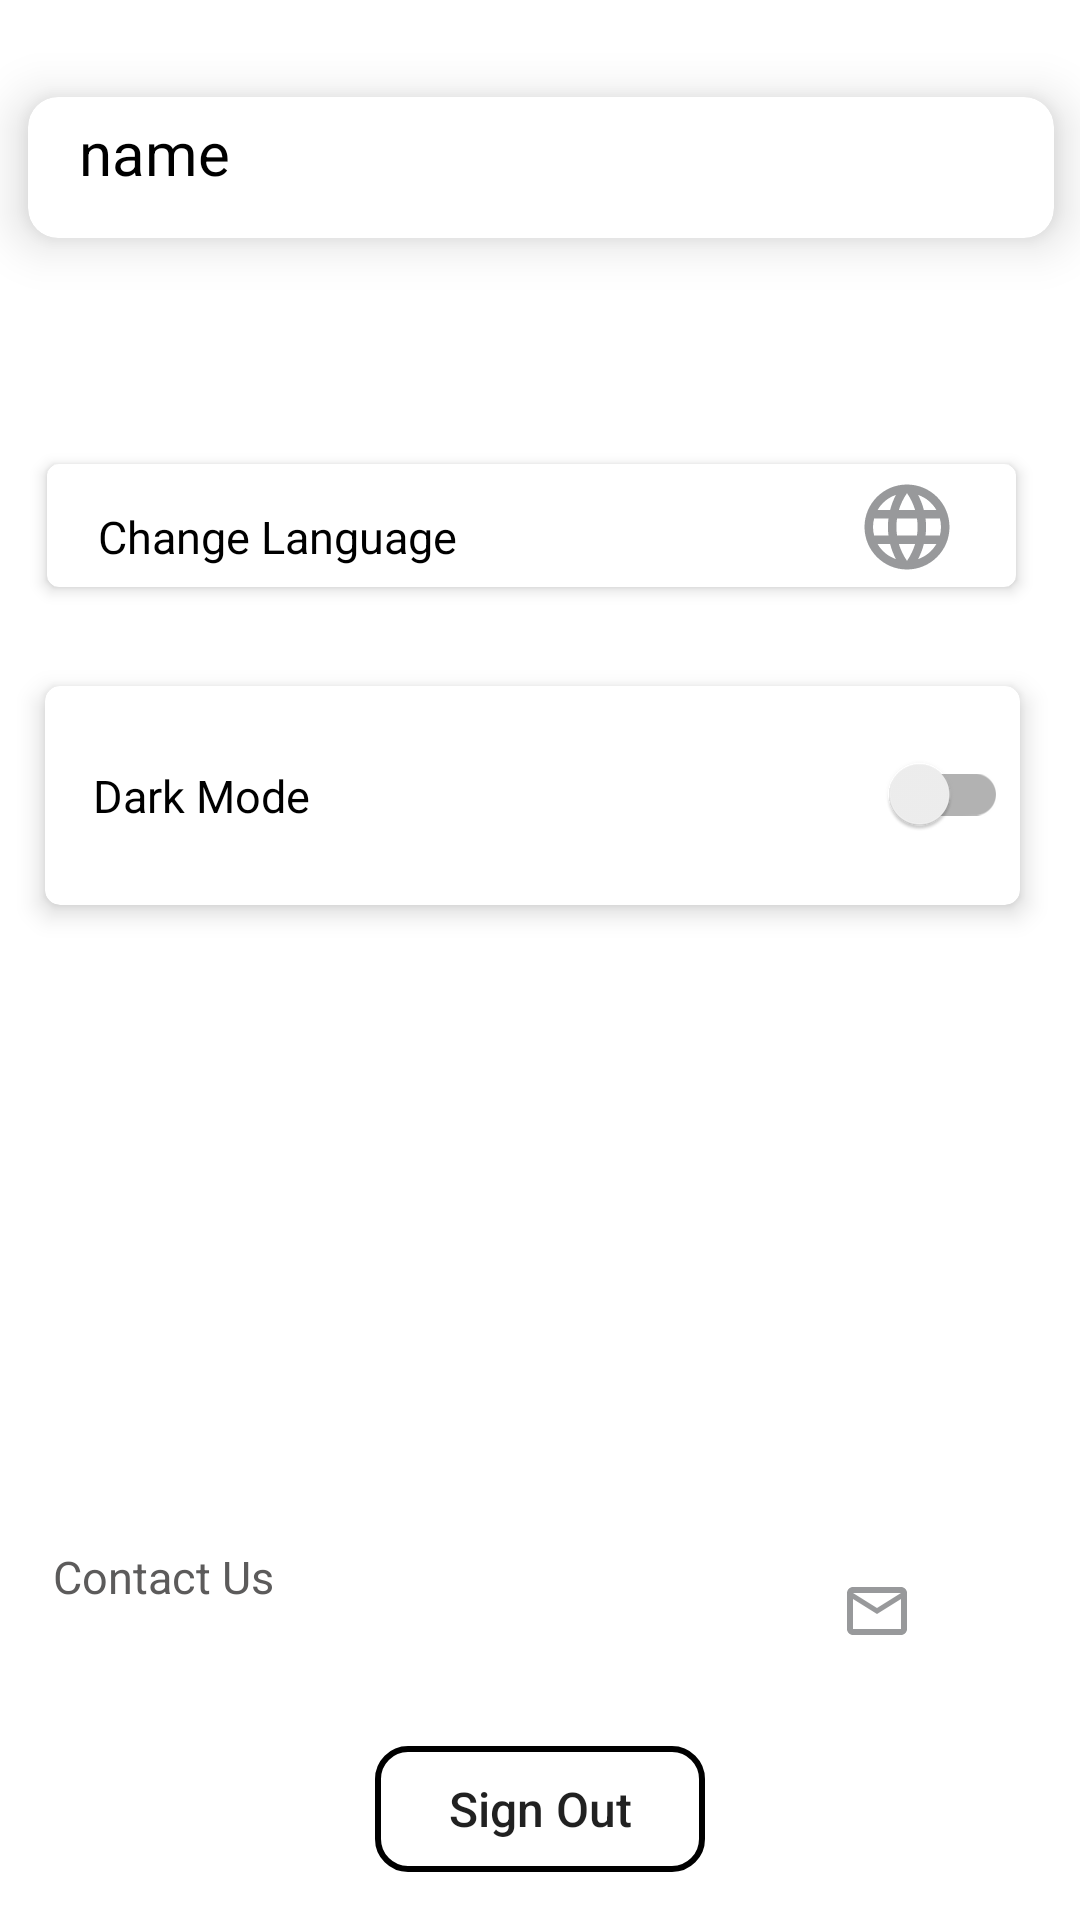

Screen size 1080×1920. Icon name, then its box in pixels as (x1, y1, x2, y2):
languge: (864, 484, 950, 570)
mail: (847, 1587, 907, 1635)
